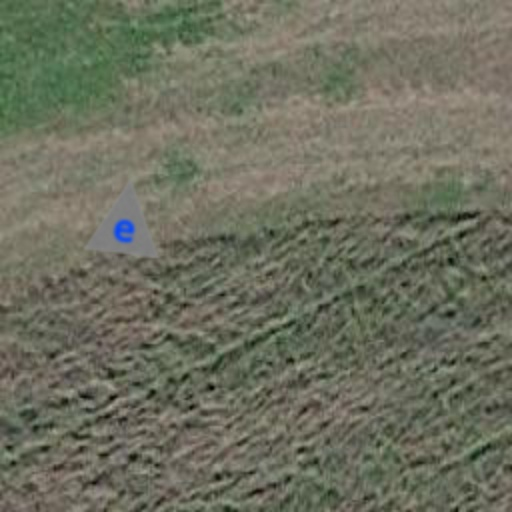triangle: (84, 174, 168, 258)
